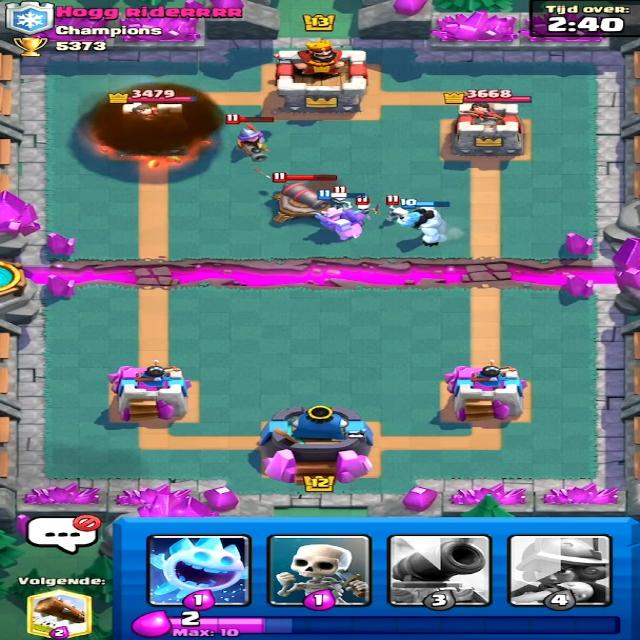Cannon_Card: (388, 536, 480, 601)
Enemy_Cannon_Troop: (264, 180, 340, 223)
Enemy_Musketeer_Troop: (233, 122, 274, 162)
Enemy_Skeleton_Troop: (370, 205, 411, 224), (355, 202, 375, 214)
Hog_Rider_Troop: (321, 201, 370, 242)
Ice_Golem_Troop: (399, 200, 462, 244)
Ice_Spirit_Card: (142, 532, 258, 608)
Musketeer_Card: (512, 532, 608, 607)
Skeleton_Card: (269, 537, 372, 607)
